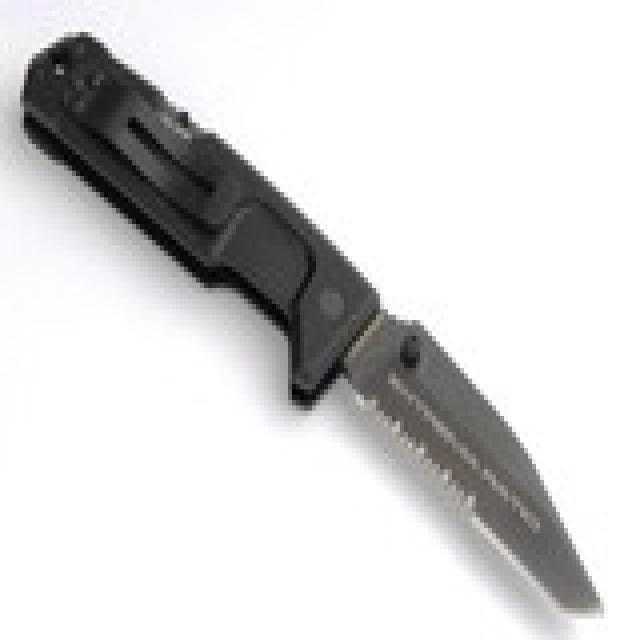Knife: (8, 14, 606, 617)
